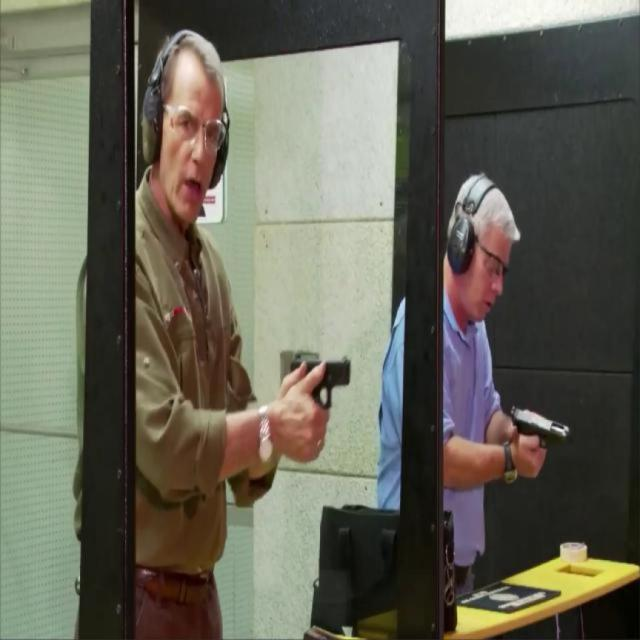pistol: (288, 355, 352, 420), (510, 404, 570, 454)
